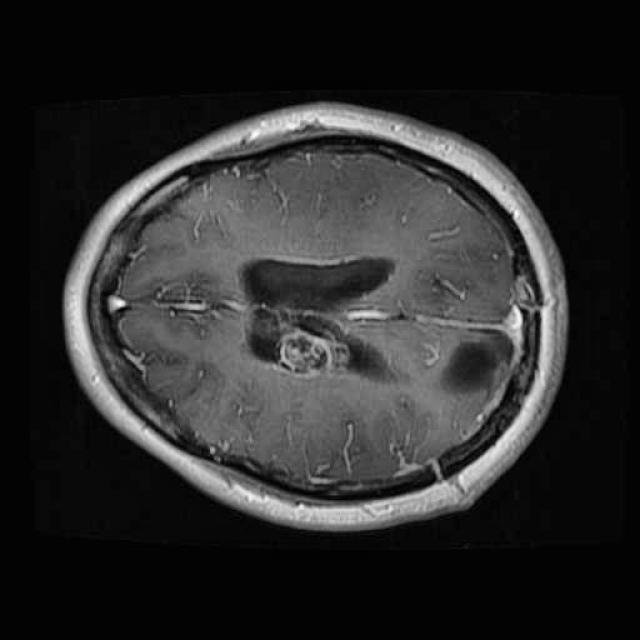Non-Tumor: (262, 312, 362, 390)
